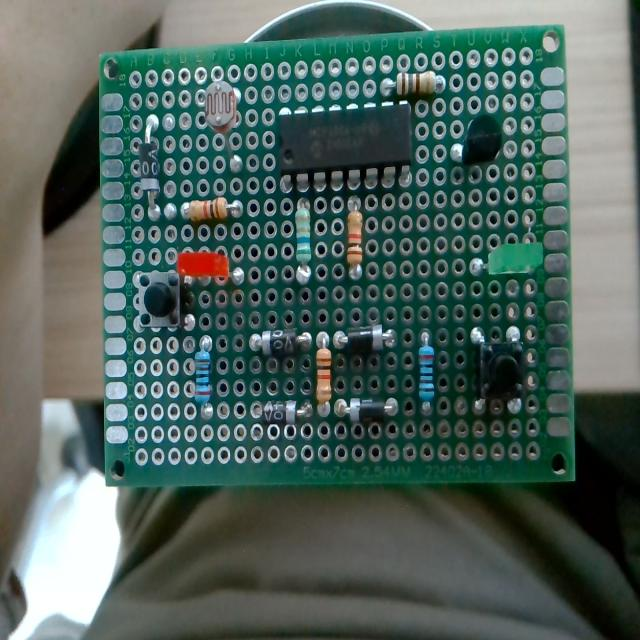IC: (277, 103, 413, 178)
cds: (204, 80, 240, 165)
diode: (140, 116, 161, 212), (340, 324, 394, 355), (338, 399, 395, 422), (256, 329, 304, 356), (259, 402, 309, 425)
led: (469, 234, 544, 284), (177, 249, 230, 279)
resistor: (382, 71, 443, 96), (296, 200, 312, 283), (184, 198, 241, 221), (194, 338, 212, 407), (418, 332, 435, 404), (346, 206, 363, 277), (316, 336, 332, 405)
switch: (469, 326, 526, 408), (134, 270, 184, 335)
transistor: (450, 106, 506, 178)
